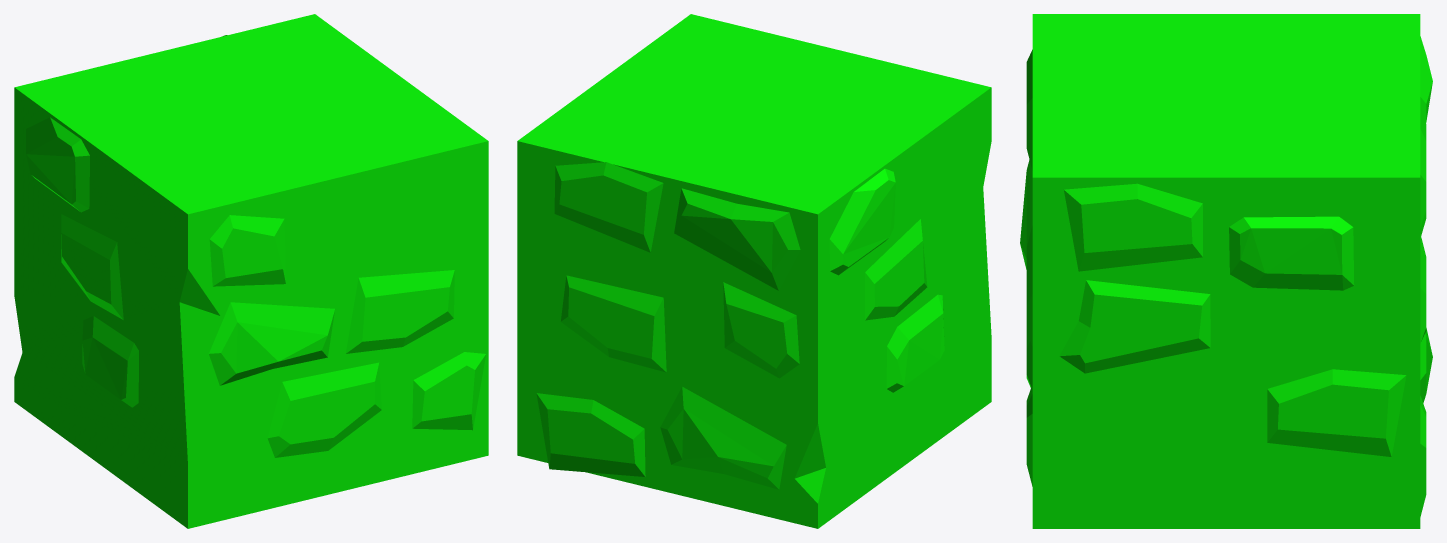
File: SM_Chimney_1m_A_Fantasy.fbx
The picture shows the model from 3 angles, left to right: view 1: azimuth 30°, elevation 25°; view 2: azimuth 150°, elevation 25°; view 3: azimuth 270°, elevation 25°; orthographic projection. The views are drawn at different scales.
Parts seen in each view (by area): view 1: chimney-1m-a-fantasy; view 2: chimney-1m-a-fantasy; view 3: chimney-1m-a-fantasy.
Boxes of the visible parts, x1,y1,x2,y2 form: chimney-1m-a-fantasy: (14, 14, 488, 528); chimney-1m-a-fantasy: (517, 14, 991, 528); chimney-1m-a-fantasy: (1020, 14, 1432, 528).
Size of the model in its own units: 1.05 by 1.02 by 1.07.
